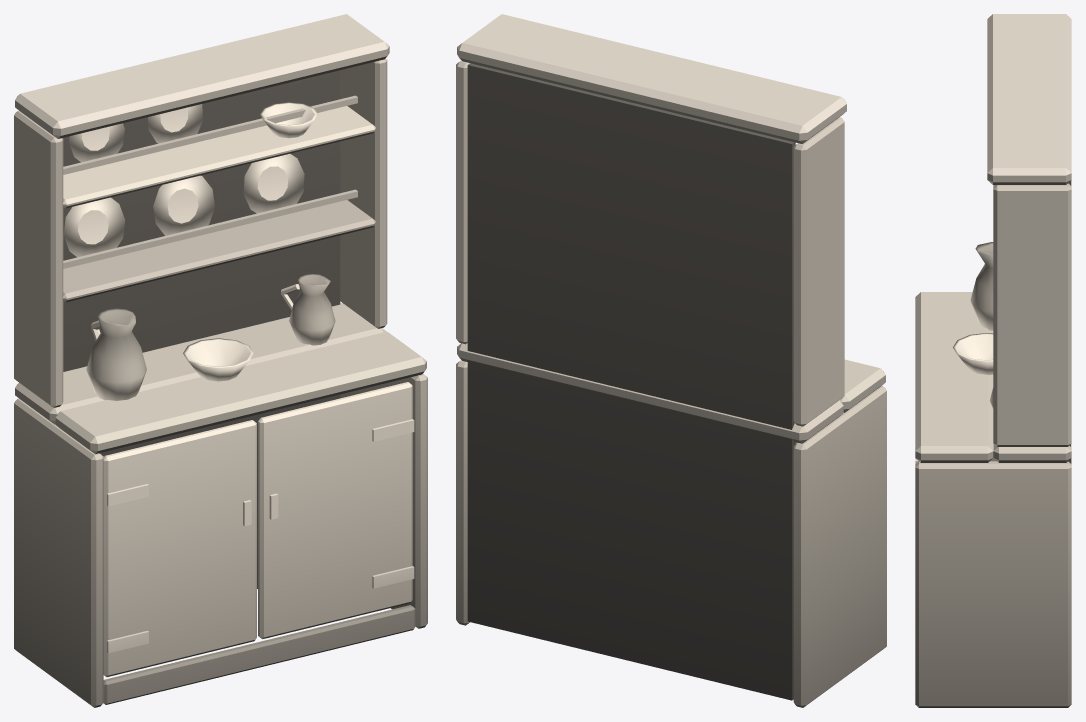
File: SM_VKI_Prop_Dresser.fbx
The picture shows the model from 3 angles, left to right: view 1: azimuth 30°, elevation 25°; view 2: azimuth 150°, elevation 25°; view 3: azimuth 270°, elevation 25°; orthographic projection. The views are drawn at different scales.
Visible parts, largest first — view 1: SM_VKI_Prop_Dresser.001; view 2: SM_VKI_Prop_Dresser.001; view 3: SM_VKI_Prop_Dresser.001.
Boxes of the visible parts, x1,y1,x2,y2 form: SM_VKI_Prop_Dresser.001: (14,14,427,707); SM_VKI_Prop_Dresser.001: (456,14,886,707); SM_VKI_Prop_Dresser.001: (915,14,1071,707).
Size of the model in its own units: 1.2 by 1.9 by 0.5.
